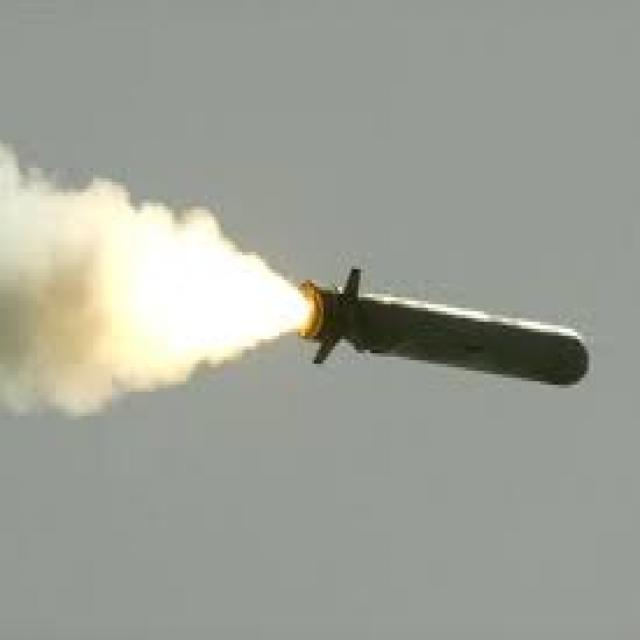missile: (292, 267, 598, 386)
